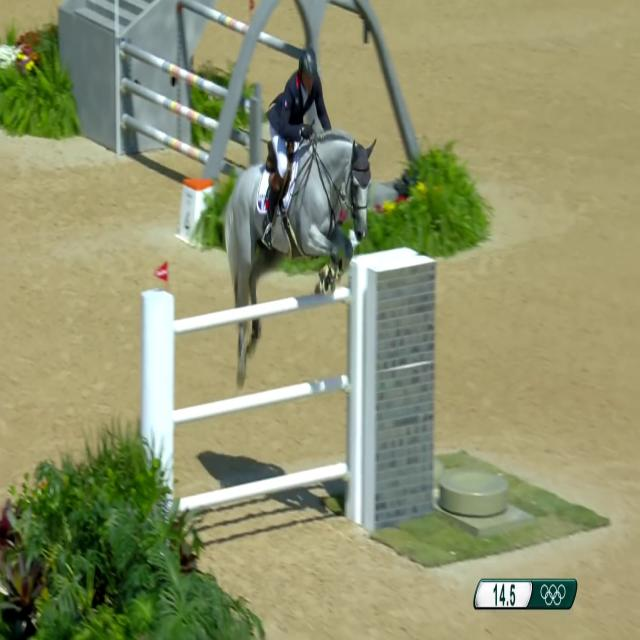Horse Jumping: (220, 122, 375, 406)
Horse Rider: (249, 46, 329, 250)
